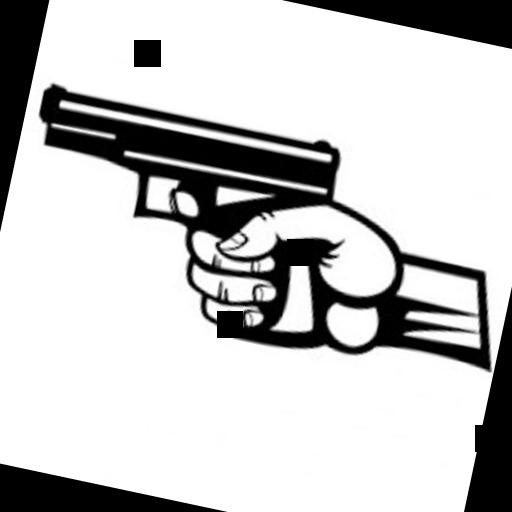Handgun: (0, 71, 360, 354)
